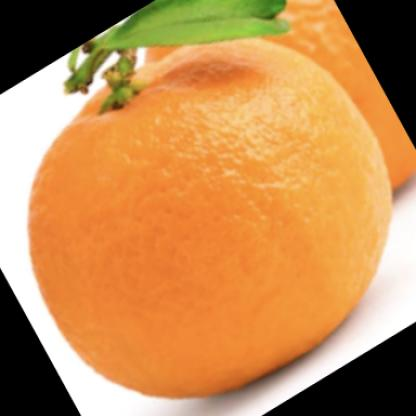fresh: (29, 30, 394, 397)
